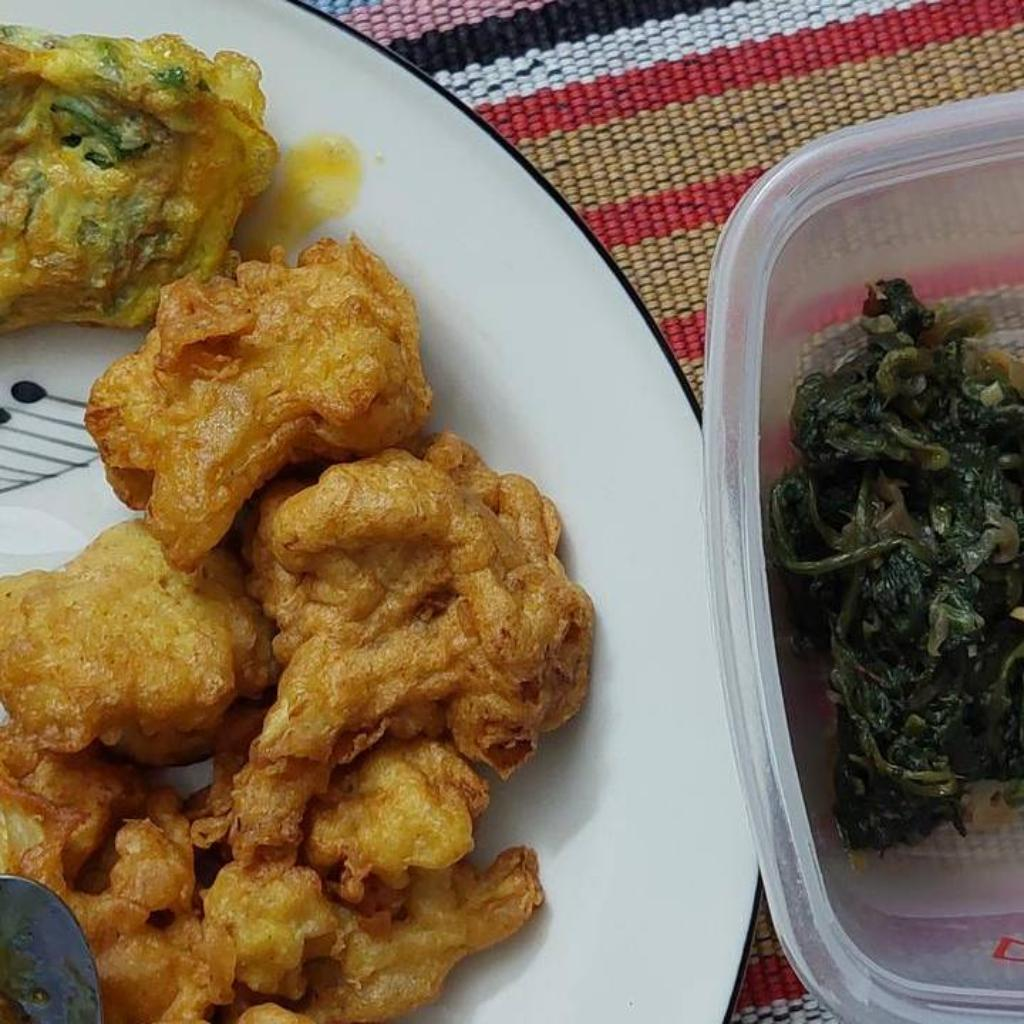chop-alu: (0, 239, 592, 1023)
egg-poached: (0, 24, 277, 330)
shak: (768, 280, 1023, 850)
